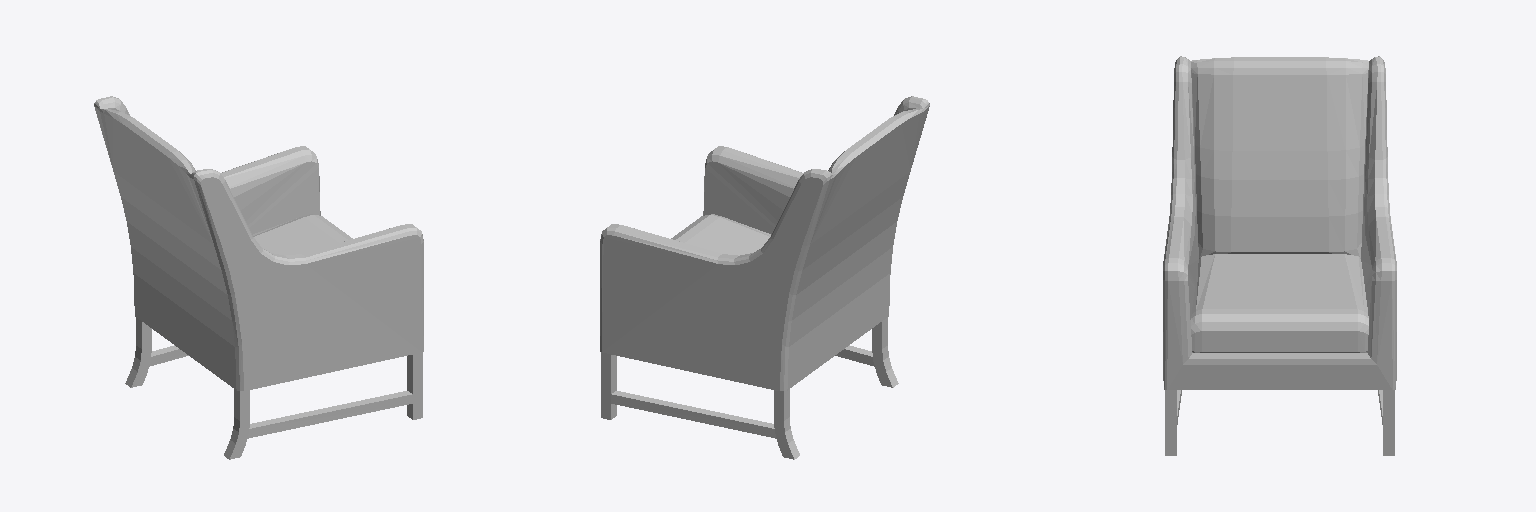
File: chair.obj
3 views of the same model, side by side, from view 1: azimuth 30°, elevation 25°; view 2: azimuth 150°, elevation 25°; view 3: azimuth 270°, elevation 25° (orthographic).
Visible parts, largest first — view 1: SM_Armchair; view 2: SM_Armchair; view 3: SM_Armchair.
Boxes of the visible parts, <box> form: SM_Armchair: <box>94,96,423,459</box>; SM_Armchair: <box>600,96,929,459</box>; SM_Armchair: <box>1163,56,1396,455</box>.
Bounding box in the file's own units: 0.7046 × 0.8825 × 0.6405.